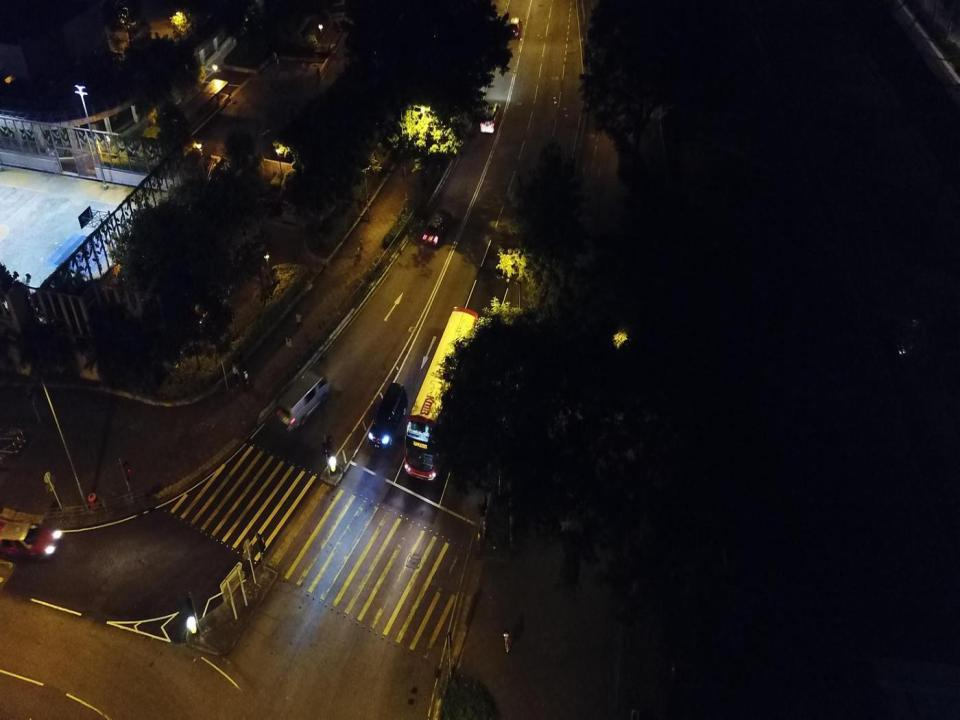car: (0, 515, 62, 562), (368, 381, 409, 450), (422, 204, 454, 246), (480, 99, 502, 134), (508, 16, 523, 40)
truck: (404, 306, 479, 483)
van: (275, 366, 331, 433)
